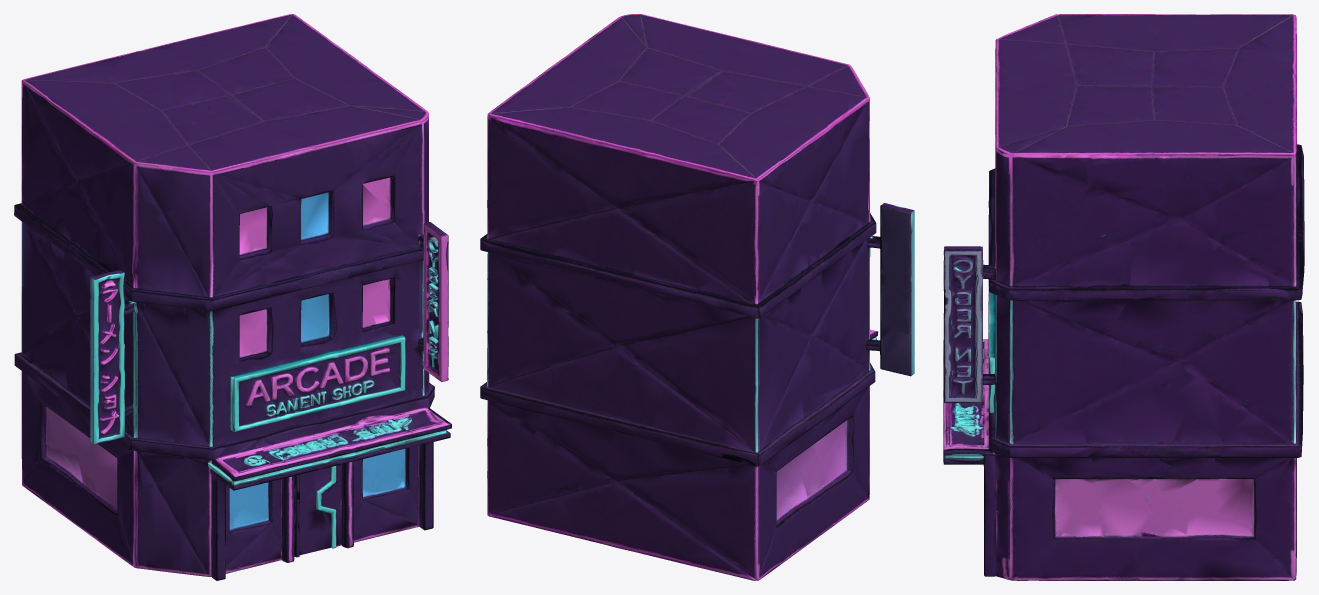
Rendered from low-building-1.glb.
The picture shows the model from 3 angles, left to right: view 1: azimuth 30°, elevation 25°; view 2: azimuth 150°, elevation 25°; view 3: azimuth 270°, elevation 25°; orthographic projection. The views are drawn at different scales.
Visible parts, largest first — view 1: mesh_node; view 2: mesh_node; view 3: mesh_node.
Part boxes in pixels (x1,y1,x2,y2): mesh_node: (14, 14, 451, 580); mesh_node: (480, 14, 914, 580); mesh_node: (943, 14, 1304, 580).
Size of the model in its own units: 1.58 by 1.9 by 1.46.
Materials: 1 (1 with a texture image).
